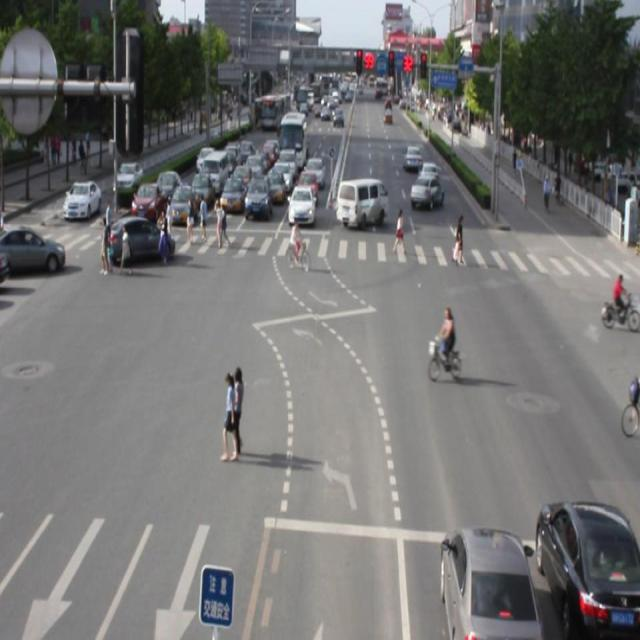car: (534, 498, 640, 640), (436, 527, 537, 640), (104, 215, 177, 263)
